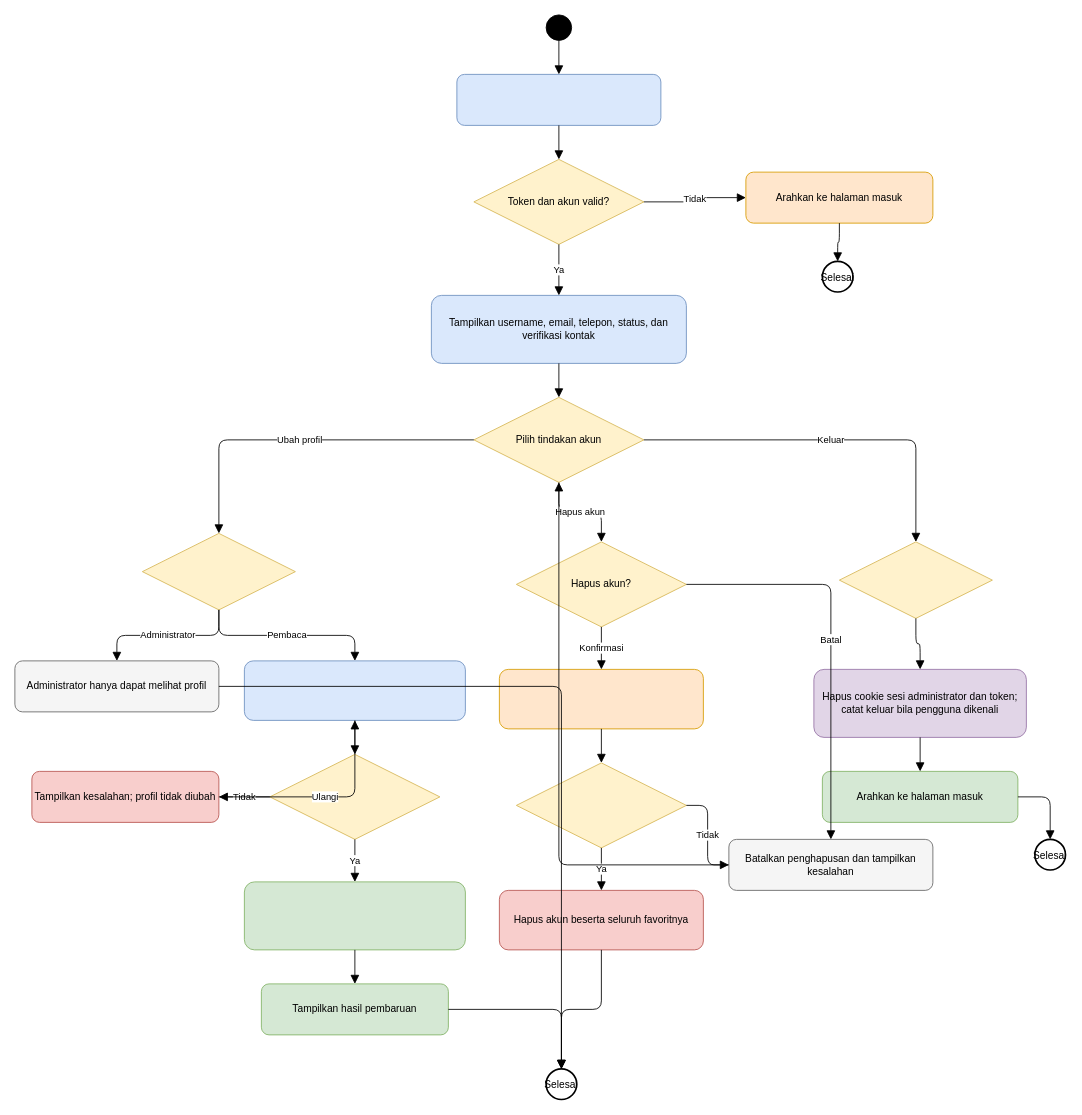
Image size: 1082x1115. Some labels were removed from this diagram. Each missing label, with the box of its shape:
Ambil profil dengan token akses: (456, 74, 661, 125)
Kata sandi saat ini benar?: (269, 754, 440, 839)
Keluar?: (839, 541, 992, 618)
Ketik HAPUS dan masukkan kata sandi saat ini: (499, 669, 703, 729)
Konfirmasi dan kata sandi benar?: (516, 762, 686, 848)
Pembaca mengisi username, telepon, dan kata sandi saat ini: (244, 660, 465, 720)
Simpan perubahan; jika telepon berubah, tandai belum terverifikasi: (244, 881, 465, 950)
Ubah profil?: (142, 533, 295, 610)
